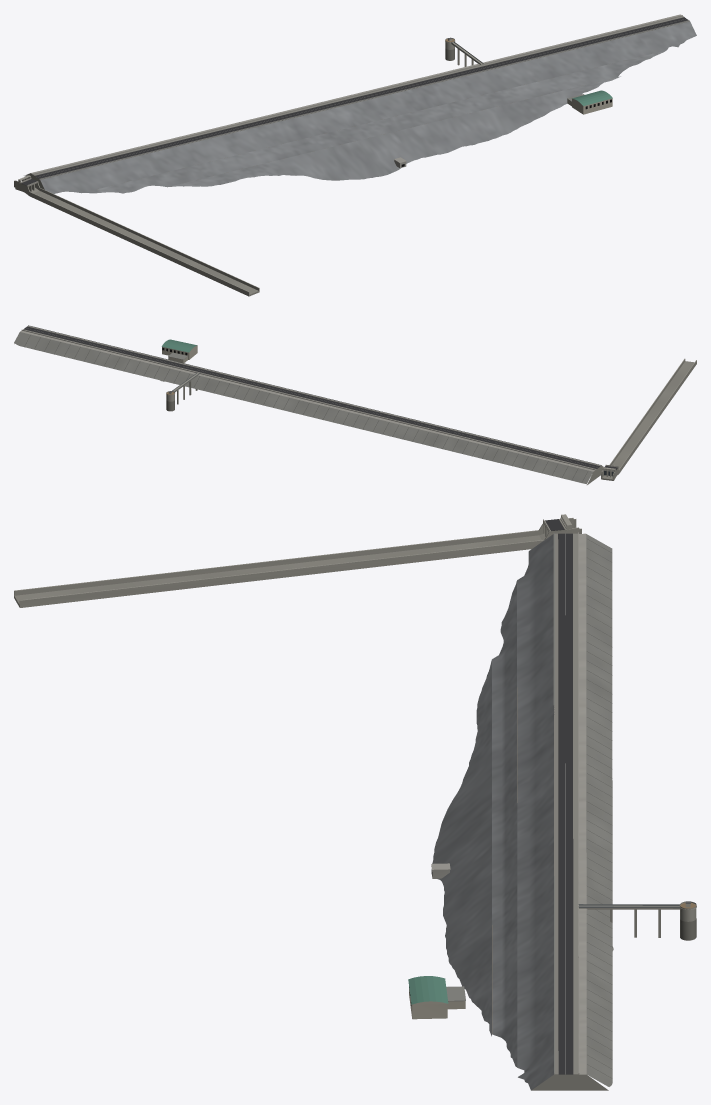
3 renders of one model, top to bottom at view 1: azimuth 30°, elevation 25°; view 2: azimuth 150°, elevation 25°; view 3: azimuth 270°, elevation 25°, orthographic. The views are drawn at different scales.
Visible parts, largest first — view 1: presa_de_valmayor; view 2: presa_de_valmayor; view 3: presa_de_valmayor.
Boxes of the visible parts, x1=… form: presa_de_valmayor: x1=14, y1=14, x2=696, y2=296; presa_de_valmayor: x1=14, y1=325, x2=696, y2=484; presa_de_valmayor: x1=14, y1=514, x2=696, y2=1090.
Size of the model in its own units: 890 by 60.85 by 461.
